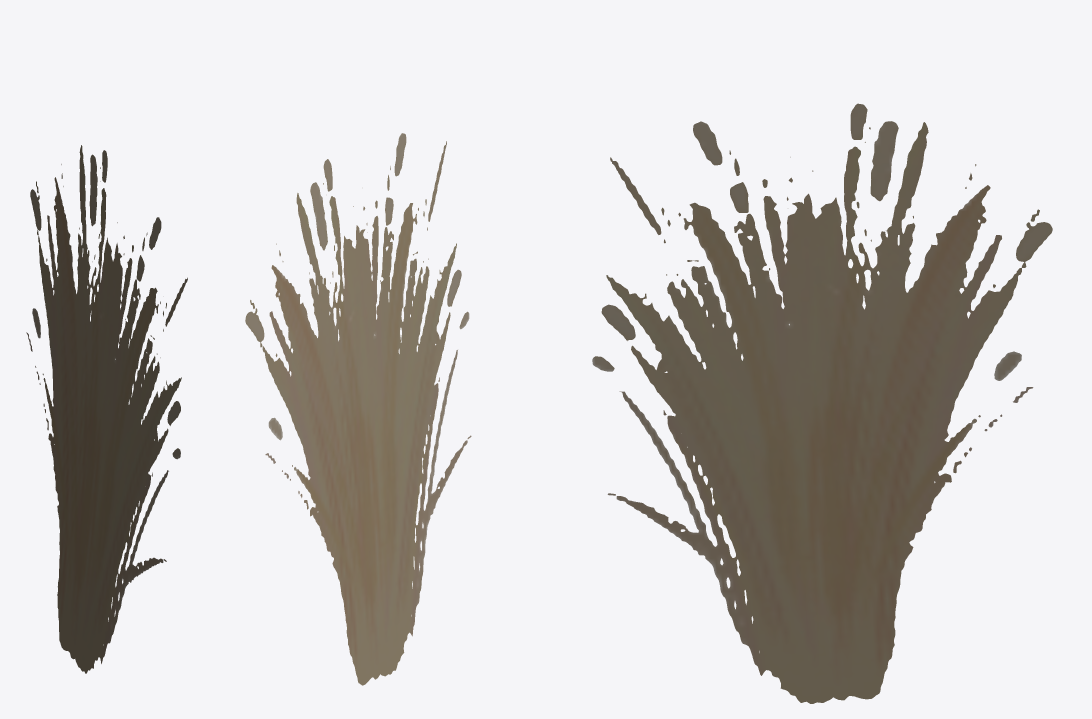
File: grass1_004.fbx
The picture shows the model from 3 angles, left to right: view 1: azimuth 30°, elevation 25°; view 2: azimuth 150°, elevation 25°; view 3: azimuth 270°, elevation 25°; orthographic projection. The views are drawn at different scales.
Parts seen in each view (by area): view 1: grass1.004; view 2: grass1.004; view 3: grass1.004.
Part boxes in pixels (x1=…): grass1.004: x1=26, y1=145, x2=187, y2=673; grass1.004: x1=245, y1=133, x2=471, y2=685; grass1.004: x1=592, y1=103, x2=1052, y2=703.
Size of the model in its own units: 35.89 by 316 by 216.
